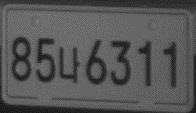1: (136, 38, 153, 87), (161, 41, 177, 90)
3: (109, 38, 131, 86)
5: (34, 37, 56, 83)
6: (84, 37, 107, 86)
8: (10, 35, 32, 81)
나: (57, 44, 82, 83)
